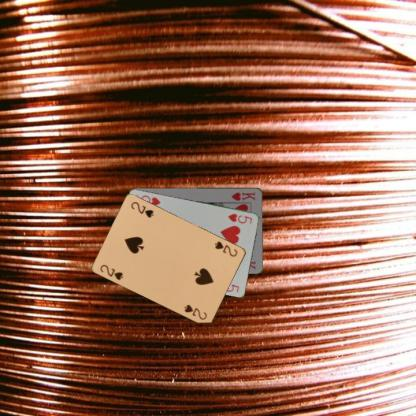2s: (213, 239, 239, 258), (98, 262, 124, 281)
5h: (225, 211, 254, 225)
Kh: (229, 190, 256, 202)
